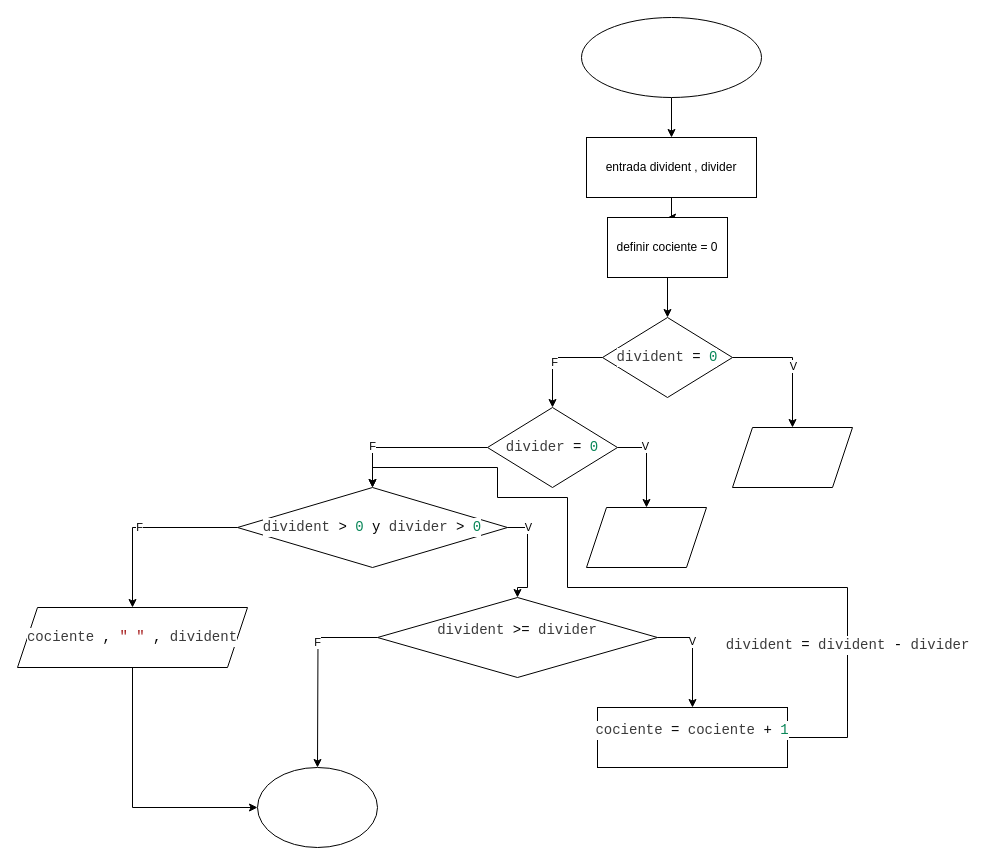
Image size: 986x865. Some labels were removed from this diagram. The centre of each missing label's shape, as x and y in pixels:
Algoritmo Practico 2 ejer 16: (x=671, y=57)
FinAlgoritmo: (x=317, y=807)
mostrar "": (x=646, y=537)
mostrar "0 0": (x=792, y=457)
